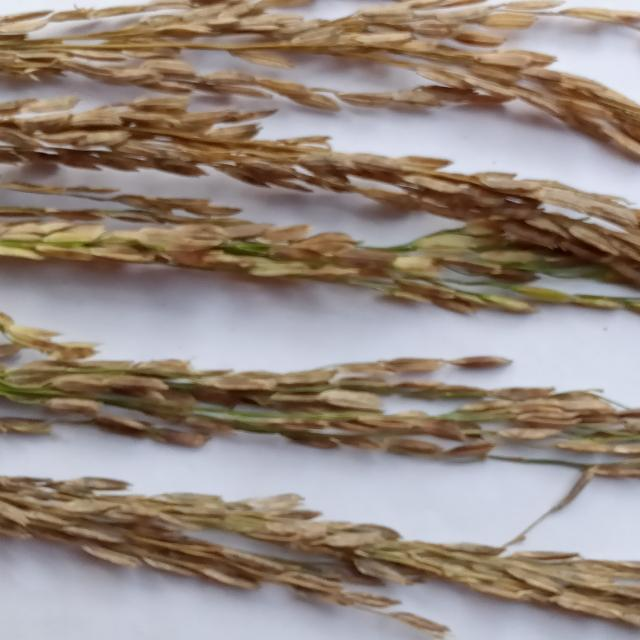Neck_Blast: (0, 93, 640, 306), (0, 0, 640, 167), (0, 302, 640, 469), (0, 469, 640, 628), (0, 206, 640, 311)
